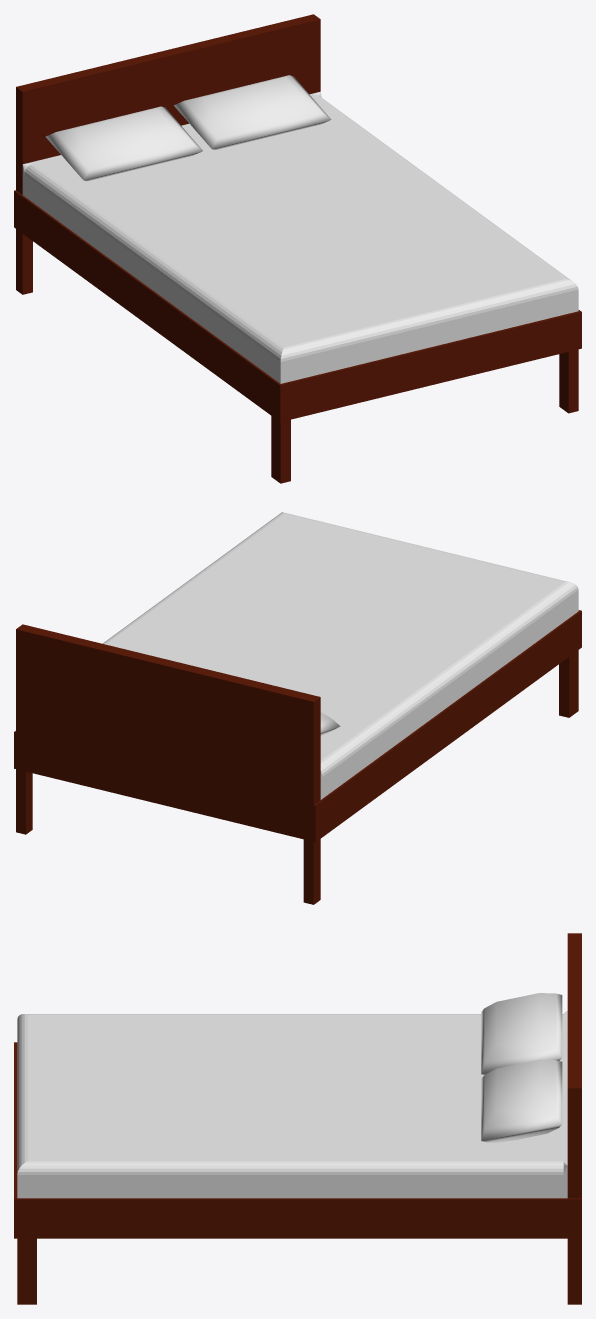
File: postel.glb
The picture shows the model from 3 angles, top to bottom: view 1: azimuth 30°, elevation 25°; view 2: azimuth 150°, elevation 25°; view 3: azimuth 270°, elevation 25°; orthographic projection. The views are drawn at different scales.
Parts seen in each view (by area): view 1: Cube, Cube.001, Cube.002; view 2: Cube; view 3: Cube, Cube.002, Cube.001.
Part boxes in pixels (x1=…): Cube: x1=14, y1=14, x2=581, y2=483; Cube.001: x1=45, y1=106, x2=202, y2=181; Cube.002: x1=174, y1=75, x2=331, y2=149; Cube: x1=14, y1=512, x2=581, y2=904; Cube: x1=14, y1=933, x2=581, y2=1304; Cube.002: x1=481, y1=1059, x2=562, y2=1142; Cube.001: x1=481, y1=993, x2=562, y2=1074.
Bounding box in the file's own units: 4.78 × 3.07 × 7.3.
